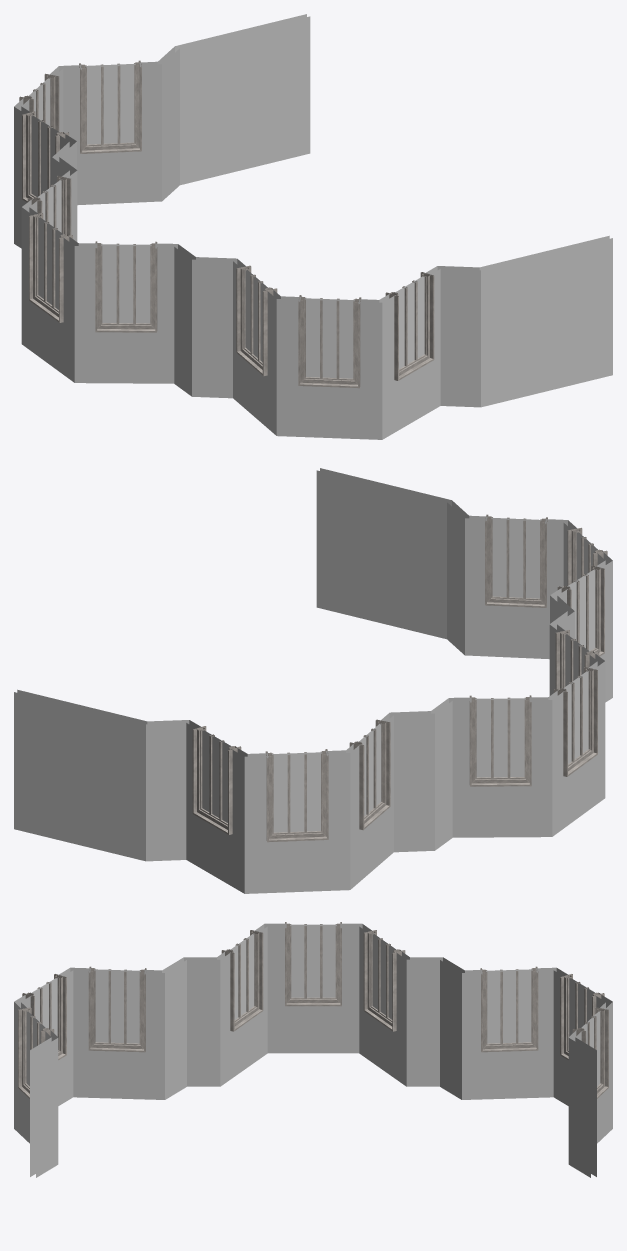
The model's file is Ambulatory_Outer_A_F.fbx.
The picture shows the model from 3 angles, top to bottom: view 1: azimuth 30°, elevation 25°; view 2: azimuth 150°, elevation 25°; view 3: azimuth 270°, elevation 25°; orthographic projection. The views are drawn at different scales.
Visible parts, largest first — view 1: Ambulatory_Outer_A_F; view 2: Ambulatory_Outer_A_F; view 3: Ambulatory_Outer_A_F.
Boxes of the visible parts, x1,y1,x2,y2 form: Ambulatory_Outer_A_F: [14, 14, 612, 439]; Ambulatory_Outer_A_F: [14, 468, 612, 893]; Ambulatory_Outer_A_F: [14, 922, 612, 1177].
Bounding box in the file's own units: 19.02 × 25.64 × 6.
